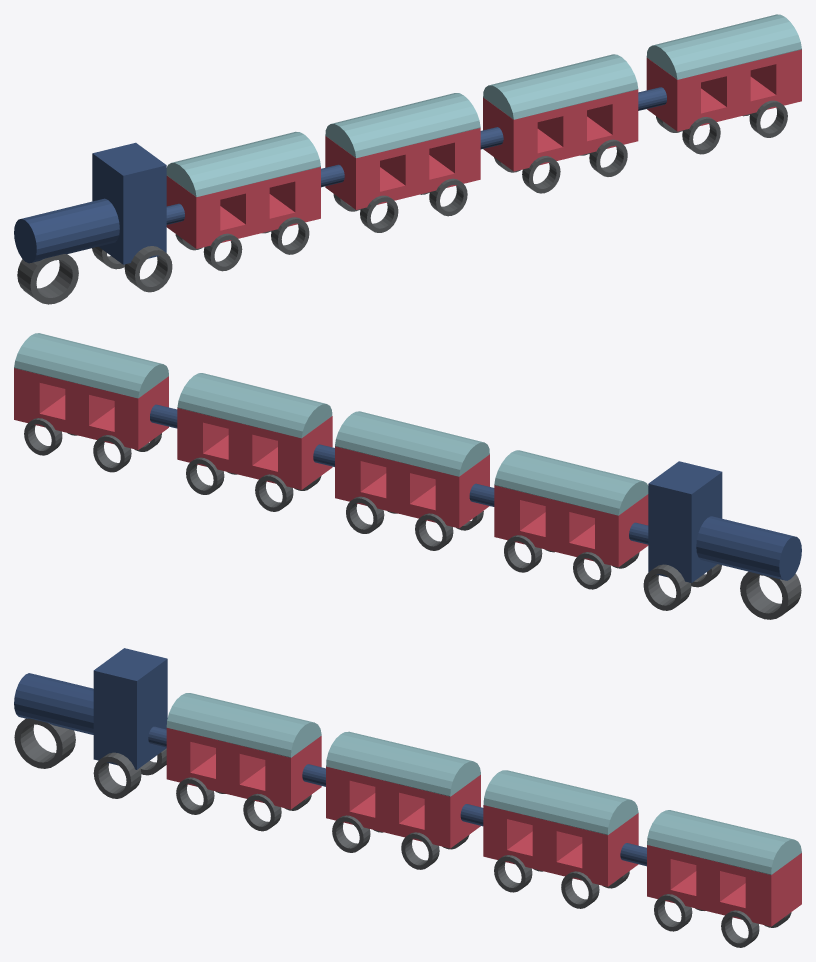
Rendered from Train Model - Project 150.glb.
The picture shows the model from 3 angles, top to bottom: view 1: azimuth 30°, elevation 25°; view 2: azimuth 150°, elevation 25°; view 3: azimuth 330°, elevation 25°; orthographic projection.
Parts seen in each view (by area): view 1: Mesh_Mesh_head_geo.001_lambert2SG.001; view 2: Mesh_Mesh_head_geo.001_lambert2SG.001; view 3: Mesh_Mesh_head_geo.001_lambert2SG.001.
Boxes of the visible parts, left/top/right/bottom form: Mesh_Mesh_head_geo.001_lambert2SG.001: left=14, top=14, right=801, bottom=304; Mesh_Mesh_head_geo.001_lambert2SG.001: left=14, top=333, right=801, bottom=619; Mesh_Mesh_head_geo.001_lambert2SG.001: left=14, top=648, right=801, bottom=947.
Size of the model in its own units: 387 by 57 by 37.
